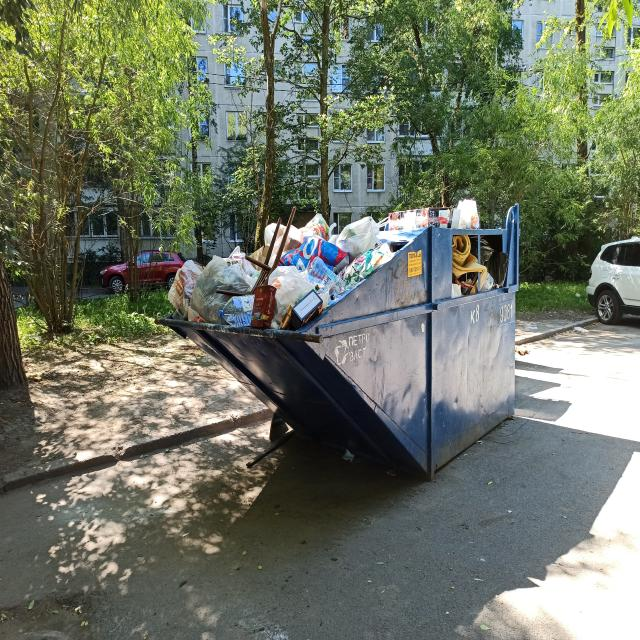bin: (152, 199, 519, 483)
trash: (165, 208, 405, 330), (452, 234, 511, 296), (385, 196, 482, 230)
